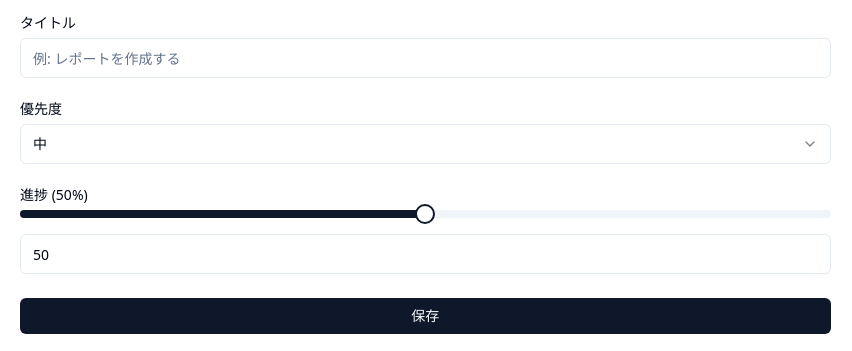
it: TodoForm › 入力操作 › 進捗が空欄の場合、0になる
This screenshot has width=852, height=351.
Clear the number field: (425, 254) [20, 234, 831, 274]
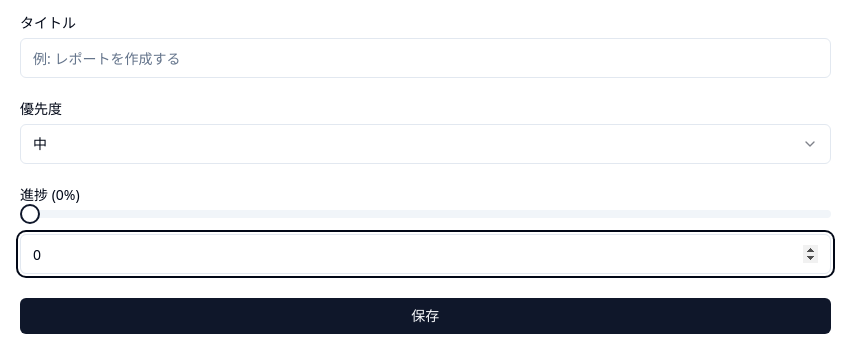
Check: the number field holds "0", box [20, 234, 831, 274]
